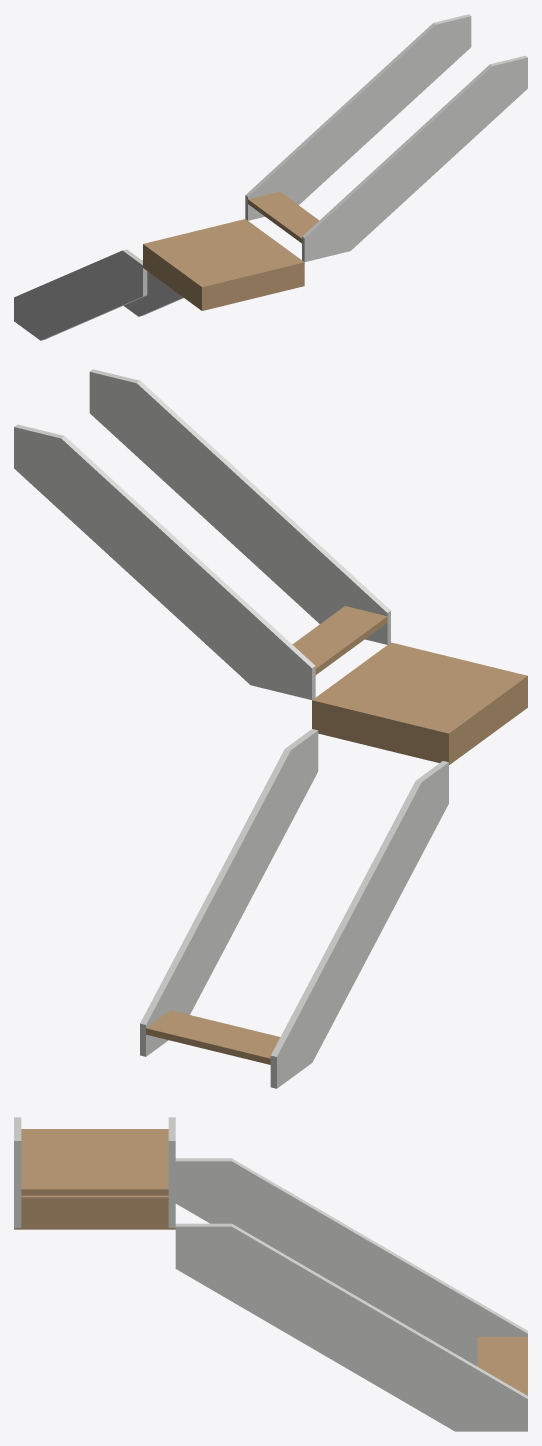
The picture shows the model from 3 angles, top to bottom: view 1: azimuth 30°, elevation 25°; view 2: azimuth 150°, elevation 25°; view 3: azimuth 270°, elevation 25°; orthographic projection. The views are drawn at different scales.
Visible parts, largest first — view 1: UpperStringerOuter, UpperStringerInner, Landing, LowerStringerLeft, UpperStep, LowerStringerRight; view 2: UpperStringerInner, UpperStringerOuter, Landing, LowerStringerLeft, LowerStringerRight, LowerStep, UpperStep; view 3: LowerStringerRight, LowerStringerLeft, Landing, UpperStep, LowerStep, UpperStringerInner, UpperStringerOuter.
Boxes of the visible parts, box(x1,y1,x2,y2) form: UpperStringerOuter: box(302, 55, 527, 261); UpperStringerInner: box(245, 14, 471, 220); Landing: box(143, 219, 304, 310); LowerStringerLeft: box(14, 249, 147, 340); UpperStep: box(248, 191, 318, 243); LowerStringerRight: box(124, 260, 183, 316); UpperStringerInner: box(14, 424, 315, 699); UpperStringerOuter: box(89, 369, 390, 644); Landing: box(312, 642, 527, 764); LowerStringerLeft: box(270, 761, 448, 1088); LowerStringerRight: box(140, 729, 318, 1056); LowerStep: box(146, 1010, 280, 1064); UpperStep: box(292, 606, 387, 674); LowerStringerRight: box(175, 1223, 527, 1431); LowerStringerLeft: box(175, 1158, 527, 1366); Landing: box(14, 1129, 175, 1229); UpperStep: box(21, 1168, 168, 1195); LowerStep: box(477, 1337, 527, 1395); UpperStringerInner: box(168, 1117, 175, 1227); UpperStringerOuter: box(14, 1117, 21, 1227).
Bounding box in the file's own units: 2.86 × 2.7 × 2.86.
